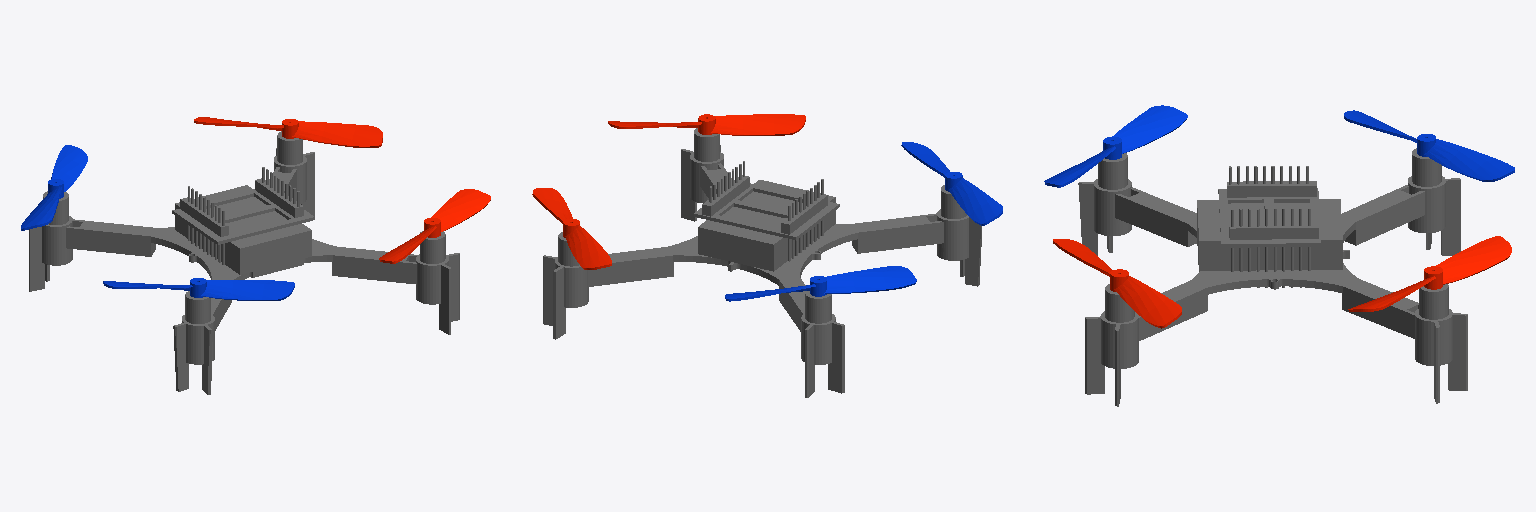
The robot description file, URDF, robot "racer":
<?xml version='1.0' encoding='utf-8'?>
<robot name="racer">
  <properties arm="0.109" kf="8.47e-9" km="2.13e-11" thrust2weight="4.17" max_speed_kmh="200" gnd_eff_coeff="11.36859" prop_radius="12.7e-2" drag_coeff_xy="9.1785e-7" drag_coeff_z="10.311e-7" dw_coeff_1="2267.18" dw_coeff_2=".16" dw_coeff_3="-.11" />
  <link name="base_link">
    <inertial>
      <origin rpy="0 0 0" xyz="0 0 0" />
      <mass value="0.830" />
      <inertia ixx=".003113" ixy="0.0" ixz="0.0" iyy=".003113" iyz="0.0" izz=".003113" />
    </inertial>
    <visual>
      <origin rpy="0 0 55" xyz="0 0 0" />
      <geometry>
        <mesh filename="body.dae" scale="3 3 3" />
      </geometry>
      <material name="grey">
        <color rgba=".5 .5 .5 1" />
      </material>
    </visual>
    <collision>
      <origin rpy="0 0 0" xyz="0 0 0" />
      <geometry>
        <cylinder radius=".06" length=".025" />
      </geometry>
    </collision>
  </link>
  <link name="prop0_link">
    <inertial>
      <origin rpy="0 0 0" xyz="0.0850 0.0675 0" />
      <mass value="0" />
      <inertia ixx="0" ixy="0" ixz="0" iyy="0" iyz="0" izz="0" />
    </inertial>
    <visual>
      <origin rpy="0 0 55" xyz="0 0 0" />
      <geometry>
        <mesh filename="prop0.dae" scale="3 3 3" />
      </geometry>
      <material name="front_orange">
        <color rgba="1 0.18 0.02 1" />
      </material>
    </visual>
  </link>
  <joint name="prop0_joint" type="fixed">
    <parent link="base_link" />
    <child link="prop0_link" />
  </joint>
  <link name="prop1_link">
    <inertial>
      <origin rpy="0 0 0" xyz="-0.0850 0.0675 0" />
      <mass value="0" />
      <inertia ixx="0" ixy="0" ixz="0" iyy="0" iyz="0" izz="0" />
    </inertial>
    <visual>
      <origin rpy="0 0 55" xyz="0 0 0" />
      <geometry>
        <mesh filename="prop1.dae" scale="3 3 3" />
      </geometry>
      <material name="rear_blue">
        <color rgba="0.05 0.3 0.9 1" />
      </material>
    </visual>
  </link>
  <joint name="prop1_joint" type="fixed">
    <parent link="base_link" />
    <child link="prop1_link" />
  </joint>
  <link name="prop2_link">
    <inertial>
      <origin rpy="0 0 0" xyz="-0.085 -0.0675 0" />
      <mass value="0" />
      <inertia ixx="0" ixy="0" ixz="0" iyy="0" iyz="0" izz="0" />
    </inertial>
    <visual>
      <origin rpy="0 0 55" xyz="0 0 0" />
      <geometry>
        <mesh filename="prop2.dae" scale="3 3 3" />
      </geometry>
      <material name="rear_blue">
        <color rgba="0.05 0.3 0.9 1" />
      </material>
    </visual>
  </link>
  <joint name="prop2_joint" type="fixed">
    <parent link="base_link" />
    <child link="prop2_link" />
  </joint>
  <link name="prop3_link">
    <inertial>
      <origin rpy="0 0 0" xyz="0.085 -0.0675 0" />
      <mass value="0" />
      <inertia ixx="0" ixy="0" ixz="0" iyy="0" iyz="0" izz="0" />
    </inertial>
    <visual>
      <origin rpy="0 0 55" xyz="0 0 0" />
      <geometry>
        <mesh filename="prop3.dae" scale="3 3 3" />
      </geometry>
      <material name="front_orange">
        <color rgba="1 0.18 0.02 1" />
      </material>
    </visual>
  </link>
  <joint name="prop3_joint" type="fixed">
    <parent link="base_link" />
    <child link="prop3_link" />
  </joint>
  <link name="center_of_mass_link">
    <inertial>
      <origin rpy="0 0 0" xyz="0 0 0" />
      <mass value="0" />
      <inertia ixx="0" ixy="0" ixz="0" iyy="0" iyz="0" izz="0" />
    </inertial>
  </link>
  <joint name="center_of_mass_joint" type="fixed">
    <parent link="base_link" />
    <child link="center_of_mass_link" />
  </joint>
</robot>

--- Facts derived from the render (not from the file) ---
Views: 3 orthographic renders of the robot side by side, from view 1: azimuth 30°, elevation 25°; view 2: azimuth 150°, elevation 25°; view 3: azimuth 270°, elevation 25°.
Robot: racer — 6 links, 5 joints (5 fixed); root link base_link; default pose: every joint at zero.
Links seen in each view (by area): view 1: base_link, prop0_link, prop2_link, prop3_link, prop1_link; view 2: base_link, prop1_link, prop3_link, prop2_link, prop0_link; view 3: base_link, prop1_link, prop0_link, prop2_link, prop3_link.
Boxes of the visible links, bbox=[...] form: base_link: bbox=[29, 131, 459, 394]; prop0_link: bbox=[194, 117, 382, 147]; prop2_link: bbox=[103, 278, 294, 300]; prop3_link: bbox=[379, 189, 490, 263]; prop1_link: bbox=[21, 145, 87, 230]; base_link: bbox=[543, 128, 981, 397]; prop1_link: bbox=[725, 266, 916, 301]; prop3_link: bbox=[608, 114, 805, 135]; prop2_link: bbox=[901, 142, 1002, 225]; prop0_link: bbox=[532, 188, 611, 269]; base_link: bbox=[1078, 148, 1467, 406]; prop1_link: bbox=[1344, 110, 1514, 181]; prop0_link: bbox=[1348, 236, 1511, 311]; prop2_link: bbox=[1044, 105, 1187, 187]; prop3_link: bbox=[1053, 239, 1181, 328].
Bounding box of the posed robot: 0.3175 × 0.2938 × 0.0931 m (x, y, z).
5 mesh visuals loaded from 5 distinct referenced files (5 Collada DAE).
